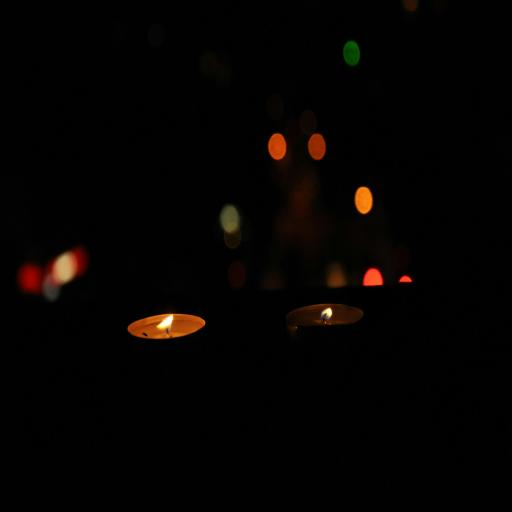candlelight: (121, 288, 217, 372)
